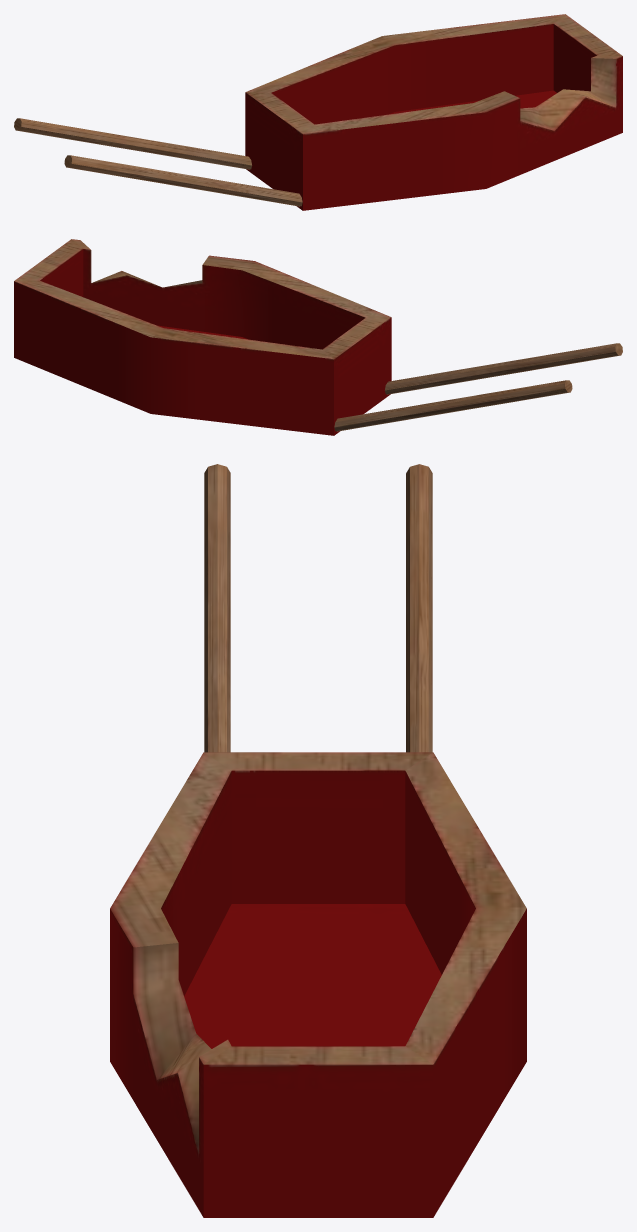
The model's file is sled3.gltf.
3 renders of one model, top to bottom at view 1: azimuth 30°, elevation 25°; view 2: azimuth 150°, elevation 25°; view 3: azimuth 270°, elevation 25°, orthographic. The views are drawn at different scales.
Parts seen in each view (by area): view 1: sled.004, pCylinder1.004, pCylinder2.004; view 2: sled.004, pCylinder2.004, pCylinder1.004; view 3: sled.004, pCylinder1.004, pCylinder2.004.
Boxes of the visible parts, x1,y1,x2,y2 form: sled.004: (245, 14, 622, 210); pCylinder1.004: (64, 155, 302, 206); pCylinder2.004: (14, 118, 251, 169); sled.004: (14, 239, 391, 435); pCylinder2.004: (334, 380, 572, 431); pCylinder1.004: (385, 343, 622, 394); sled.004: (110, 752, 526, 1217); pCylinder1.004: (204, 464, 230, 752); pCylinder2.004: (406, 464, 432, 752).
Size of the model in its own units: 0.1427 by 0.0288 by 0.0465.
4 materials, 4 textured.
